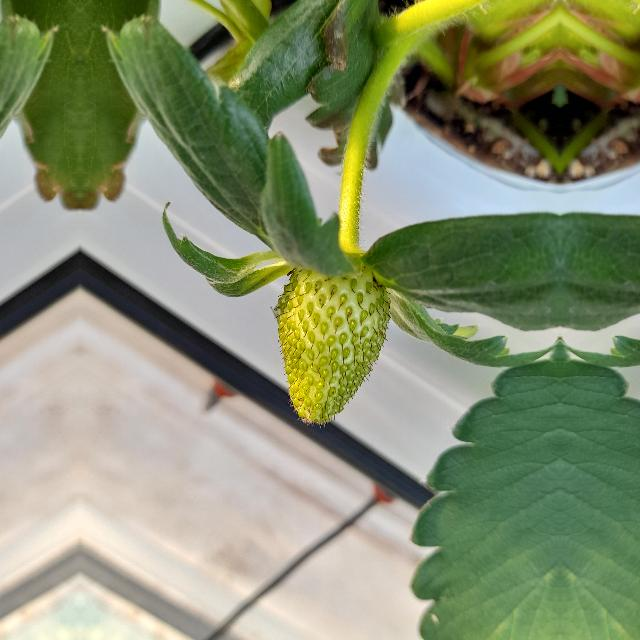Health_25: (273, 266, 391, 427)
